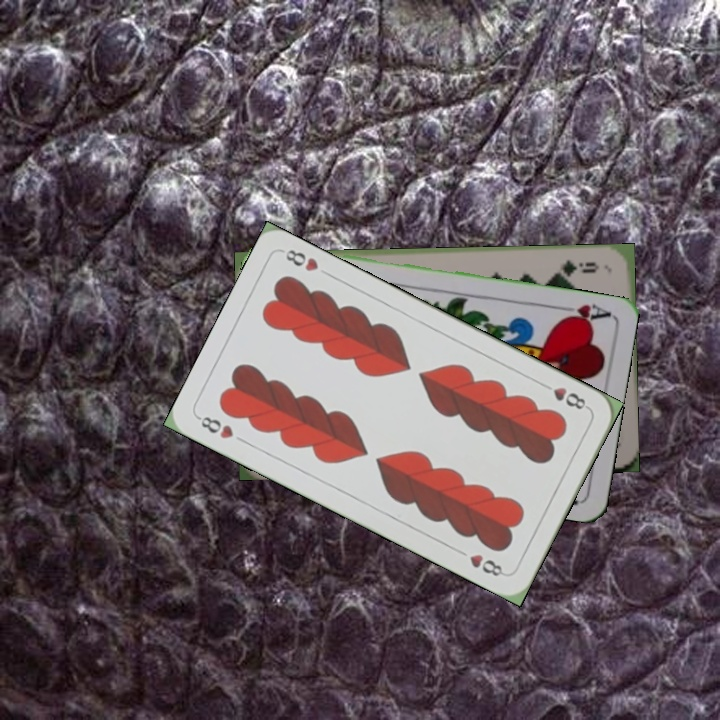G9: (550, 256, 602, 279)
H8: (537, 379, 592, 413), (194, 412, 236, 442)
HA: (553, 299, 612, 326)
